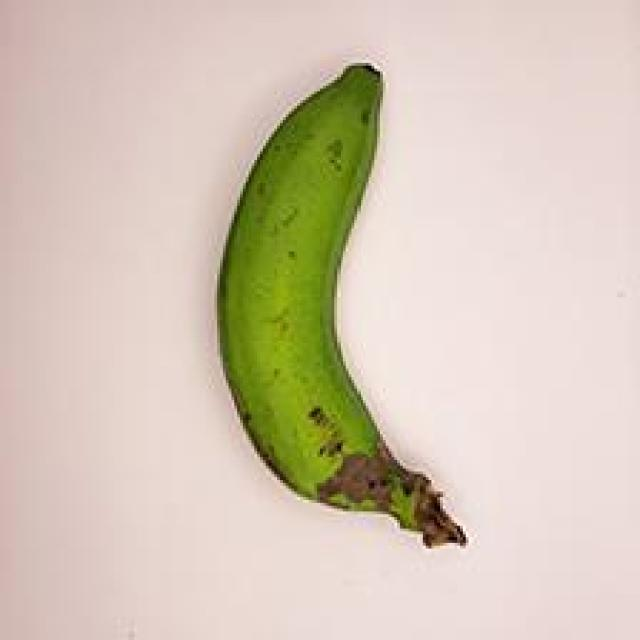Raw: (182, 46, 482, 580)
